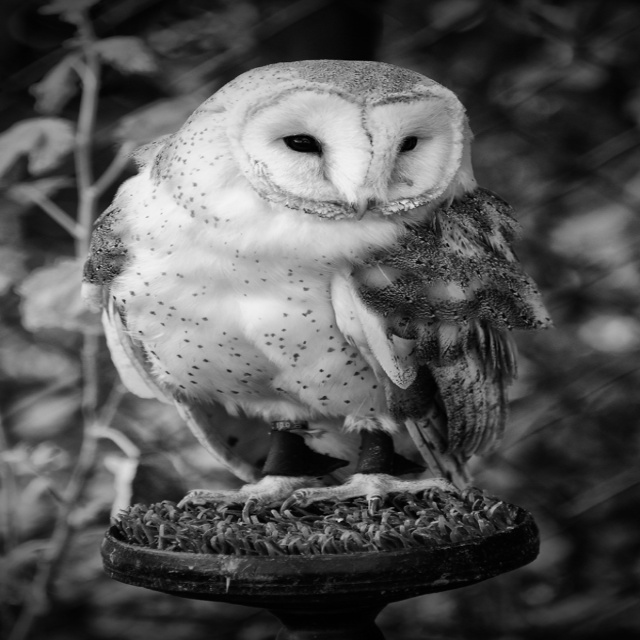Owl: (69, 55, 552, 529)
